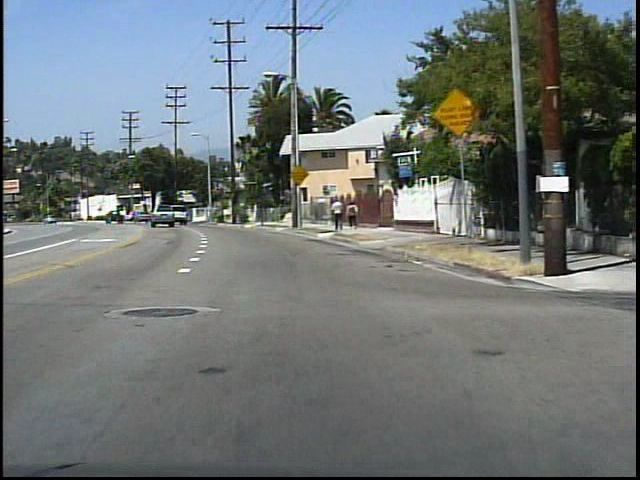person: (330, 196, 346, 234), (344, 200, 359, 232)
